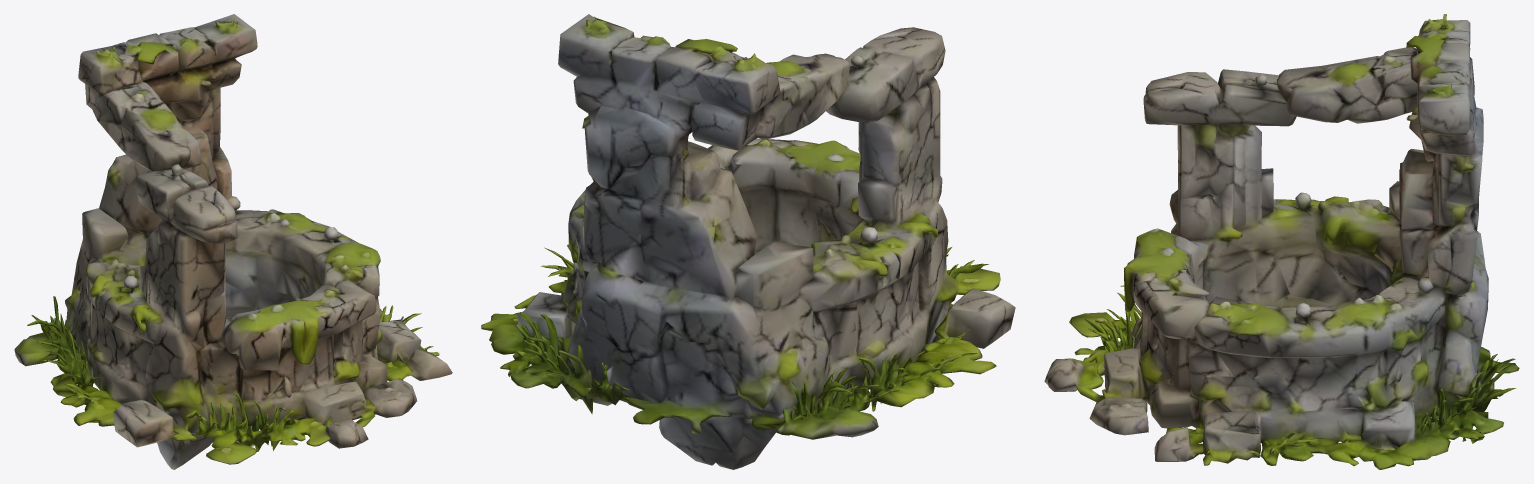
Rendered from ruin_well.glb.
The picture shows the model from 3 angles, left to right: view 1: azimuth 30°, elevation 25°; view 2: azimuth 150°, elevation 25°; view 3: azimuth 270°, elevation 25°; orthographic projection. The views are drawn at different scales.
Visible parts, largest first — view 1: tripo_node_9010d40f-6b55-4ddd-a059-8f6eef943ca7; view 2: tripo_node_9010d40f-6b55-4ddd-a059-8f6eef943ca7; view 3: tripo_node_9010d40f-6b55-4ddd-a059-8f6eef943ca7.
Boxes of the visible parts, x1,y1,x2,y2 form: tripo_node_9010d40f-6b55-4ddd-a059-8f6eef943ca7: (14,14,452,469); tripo_node_9010d40f-6b55-4ddd-a059-8f6eef943ca7: (481,14,1015,469); tripo_node_9010d40f-6b55-4ddd-a059-8f6eef943ca7: (1044,14,1519,469).
Size of the model in its own units: 0.9758 by 0.8849 by 0.9998.
1 material, 1 textured.
